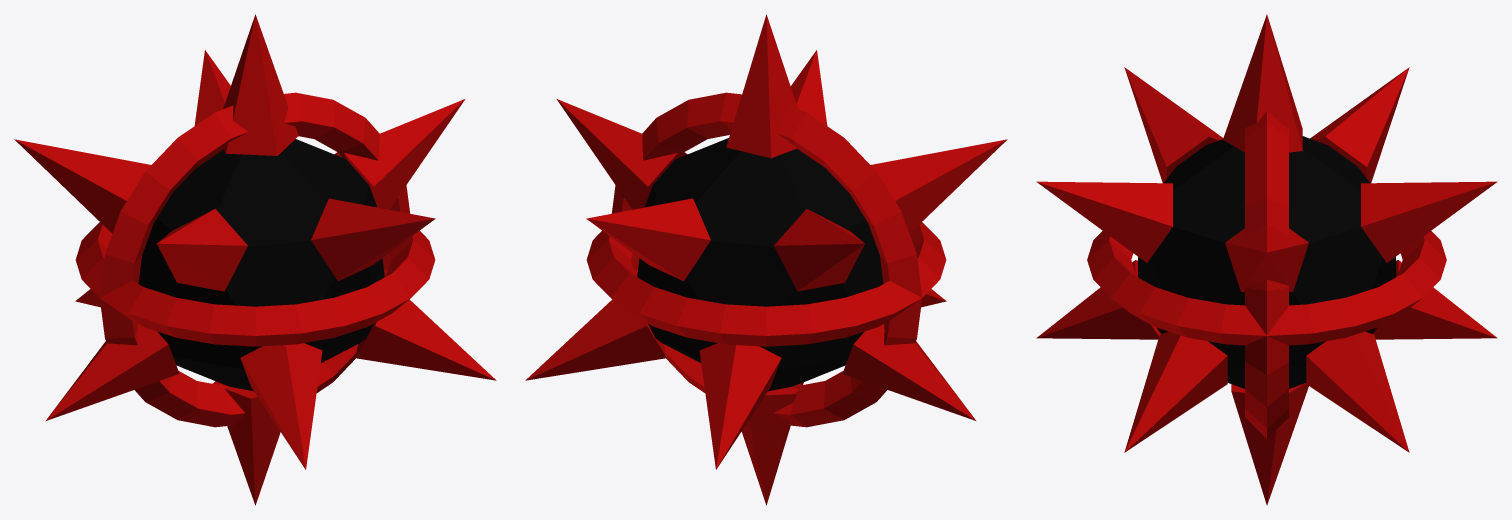
The model's file is spike_mine.glb.
3 views of the same model, side by side, from view 1: azimuth 30°, elevation 25°; view 2: azimuth 150°, elevation 25°; view 3: azimuth 270°, elevation 25° (orthographic).
Parts seen in each view (by area): view 1: SpikeMine; view 2: SpikeMine; view 3: SpikeMine.
Part boxes in pixels (left/top/right/bottom): SpikeMine: left=14, top=14, right=496, bottom=505; SpikeMine: left=525, top=14, right=1007, bottom=505; SpikeMine: left=1036, top=14, right=1497, bottom=505.
Size of the model in its own units: 0.7692 by 0.86 by 0.7316.
